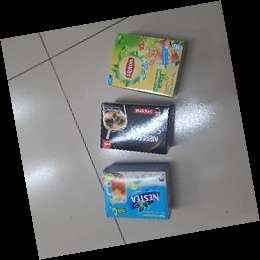CF Viet: (99, 100, 174, 157)
LipTon: (106, 32, 188, 99)
Nestea: (101, 163, 173, 220)
